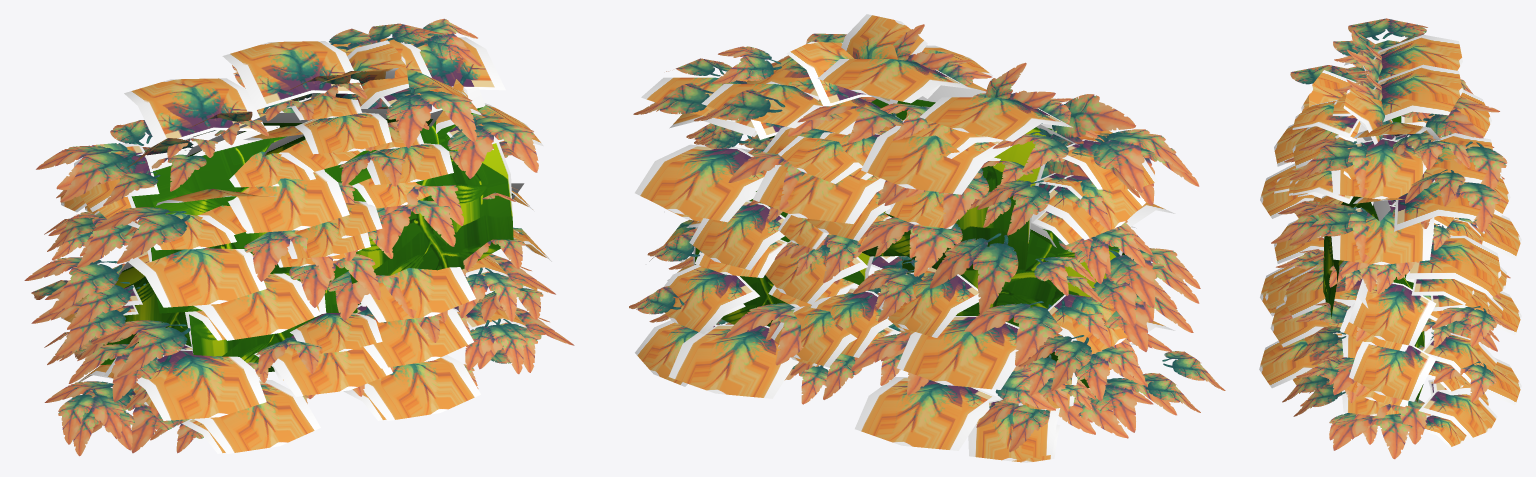
File: SM_HedgeWall.fbx
3 views of the same model, side by side, from view 1: azimuth 30°, elevation 25°; view 2: azimuth 150°, elevation 25°; view 3: azimuth 270°, elevation 25° (orthographic). The views are drawn at different scales.
Parts seen in each view (by area): view 1: HedgeWallMesh; view 2: HedgeWallMesh; view 3: HedgeWallMesh.
Part boxes in pixels (x1,y1,x2,y2): HedgeWallMesh: (24, 18, 574, 456); HedgeWallMesh: (629, 14, 1225, 462); HedgeWallMesh: (1259, 18, 1521, 459).
Size of the model in its own units: 718 by 427 by 352.
